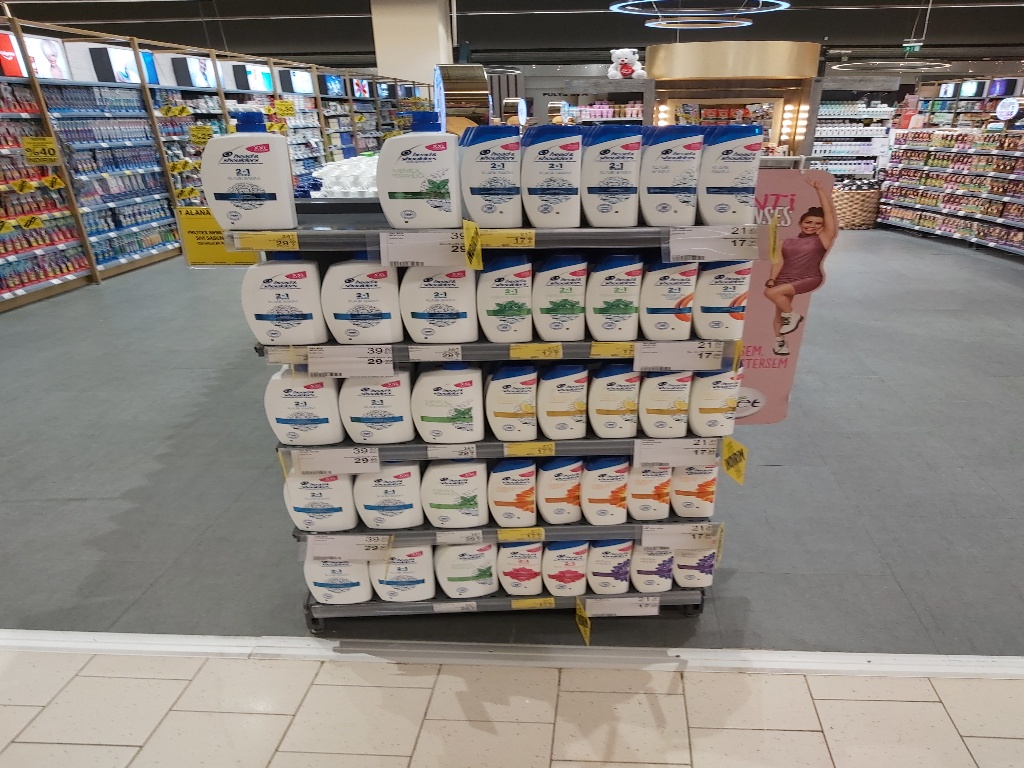urun: (357, 104, 461, 225), (390, 252, 484, 348), (232, 250, 325, 346), (314, 248, 407, 344), (454, 105, 525, 227), (637, 109, 708, 230), (516, 105, 586, 227), (694, 111, 764, 233), (575, 104, 645, 225), (261, 362, 340, 448), (334, 362, 413, 448), (407, 360, 486, 445), (471, 250, 538, 339), (352, 454, 428, 530), (280, 456, 356, 531), (415, 452, 490, 527), (582, 252, 644, 335), (529, 252, 590, 335), (640, 255, 701, 338), (689, 252, 750, 335), (532, 357, 590, 443), (585, 356, 643, 442), (686, 357, 744, 443), (484, 357, 541, 443), (635, 355, 692, 440), (305, 541, 371, 607), (370, 535, 436, 600), (434, 540, 500, 605), (485, 454, 539, 530), (580, 449, 634, 525), (530, 452, 584, 527), (626, 456, 675, 534), (668, 454, 717, 521), (540, 535, 589, 598), (628, 536, 677, 599), (673, 532, 722, 595), (494, 538, 543, 600), (584, 535, 632, 598)
urun2: (195, 106, 298, 228)
